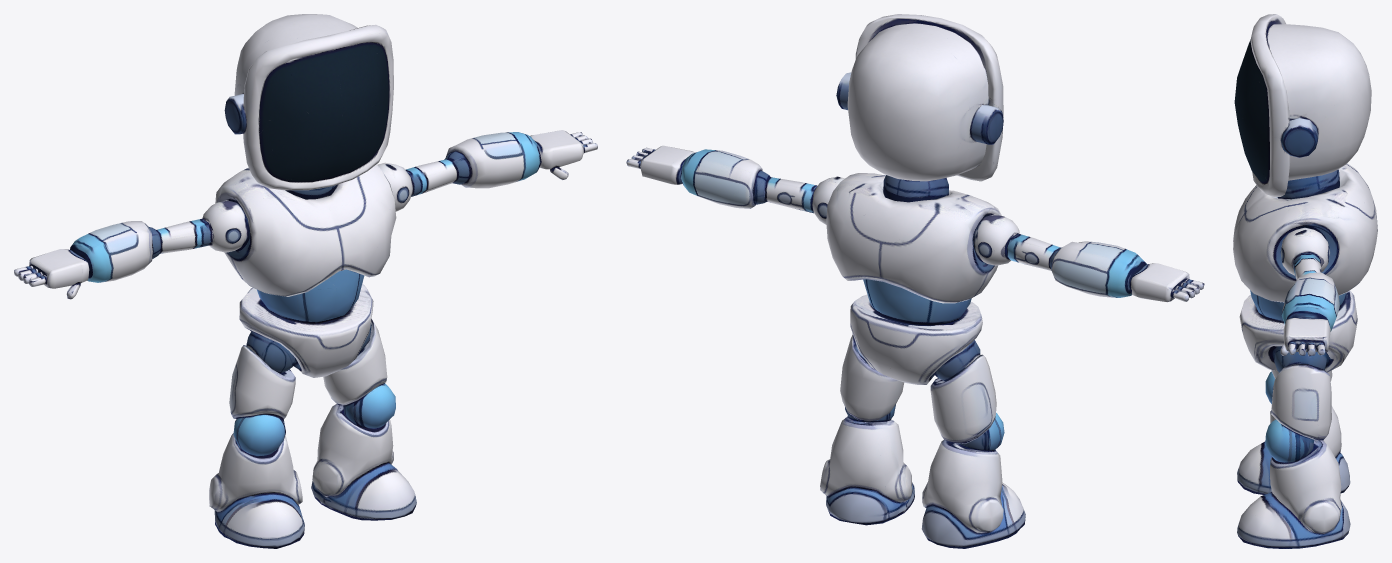
File: Meshy_AI_Pixel_Pal_0915023021_texture.fbx
3 views of the same model, side by side, from view 1: azimuth 30°, elevation 25°; view 2: azimuth 150°, elevation 25°; view 3: azimuth 270°, elevation 25° (orthographic). The views are drawn at different scales.
Parts seen in each view (by area): view 1: Mesh_0; view 2: Mesh_0; view 3: Mesh_0.
Part boxes in pixels (x1=…): Mesh_0: x1=14, y1=14, x2=597, y2=548; Mesh_0: x1=626, y1=14, x2=1204, y2=548; Mesh_0: x1=1233, y1=14, x2=1377, y2=548.
Size of the model in its own units: 100 by 82.23 by 22.75.
Materials: 1 (1 with a texture image).
